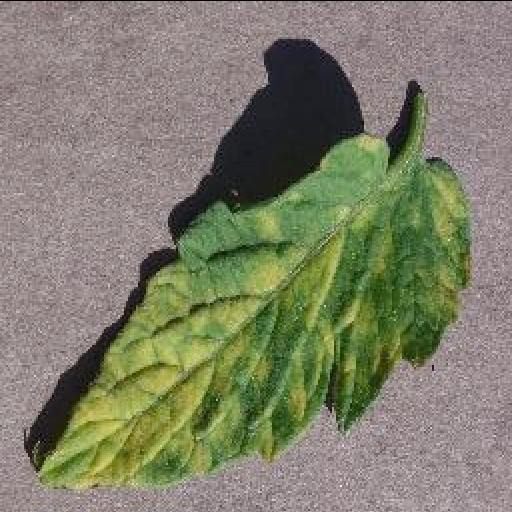disease_tomato: (30, 130, 472, 486)
